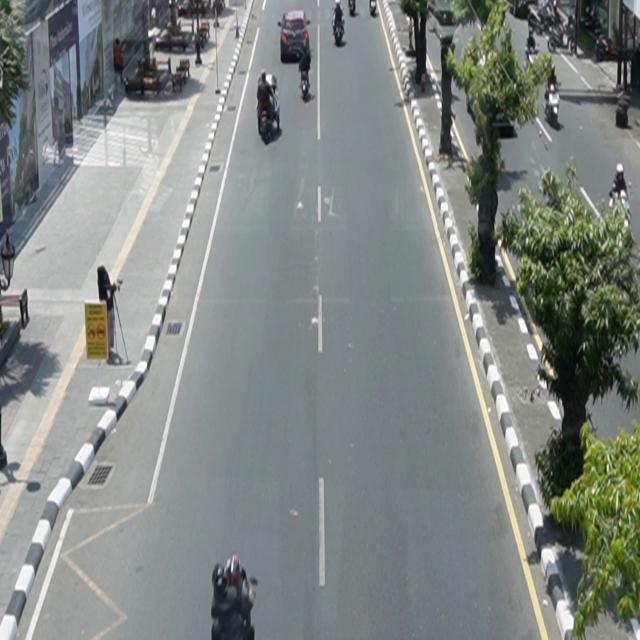car: (278, 11, 311, 63)
